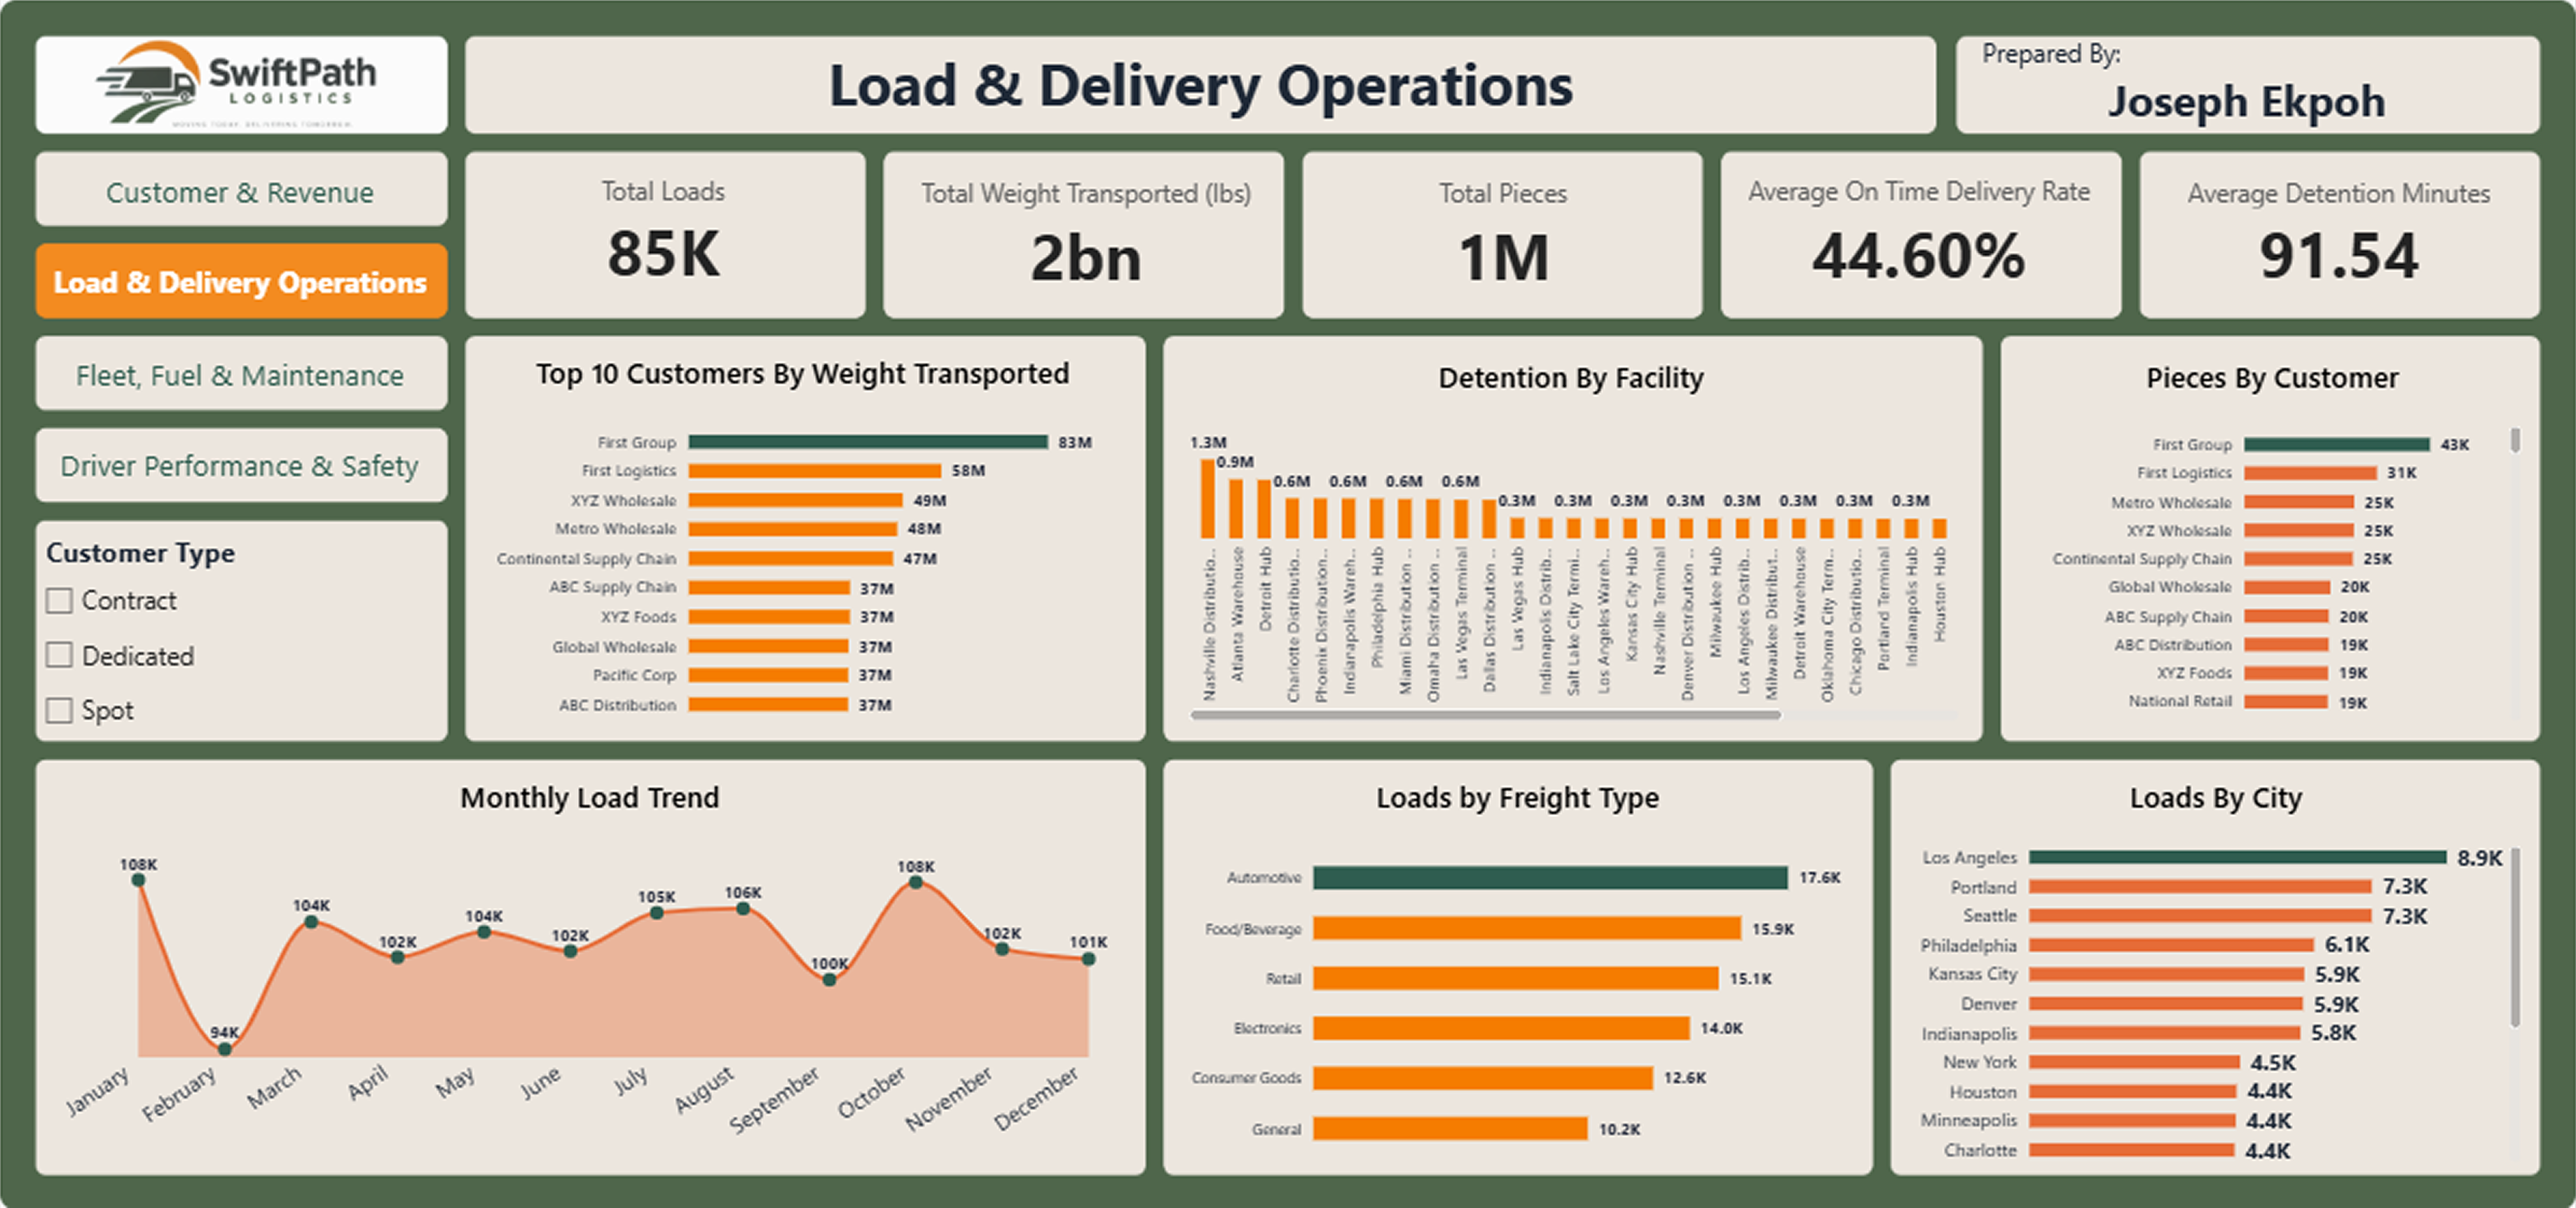

What the dashboard file says about the page in this screenshot:
{"tool":"powerbi","page":{"name":"Load & Delivery Operations","canvas":[1920,1080],"ordinal":2},"visuals":[{"type":"clusteredBarChart","title":"Top 10 Customers By Weight Transported","fields":{"Category":["customers.customer_name"],"Y":["loads.Total Weight Transported (lbs)"]},"box":[345.2,331.6,508.8,306.6],"z":0},{"type":"clusteredBarChart","title":"Loads by Freight Type","fields":{"Category":["customers.primary_freight_type"],"Y":["loads.Total Loads"]},"box":[867.6,647.3,529.2,318],"z":1000},{"type":"columnChart","title":"Detention By Facility","fields":{"Category":["facilities.facility_name"],"Y":["delivery_events.Total Detention Minutes"]},"box":[867.6,333.9,608.7,302.1],"z":2000},{"type":"clusteredBarChart","title":"Loads By City","fields":{"Category":["routes.destination_city"],"Y":["loads.Total Loads"]},"box":[1408.2,647.3,486.1,318],"z":3000},{"type":"cardVisual","fields":{"Data":["loads.Total Loads"]},"box":[345.2,197.6,300,120.4],"z":4000},{"type":"cardVisual","fields":{"Data":["loads.Total Weight (lbs)"]},"box":[658.7,197.6,300,125],"z":5000},{"type":"cardVisual","fields":{"Data":["loads.Total Pieces"]},"box":[970,197,300,125],"z":6000},{"type":"cardVisual","fields":{"Data":["driver_monthly_metrics.Average On Time Delivery Rate"]},"box":[1281,197.6,299,123],"z":7000},{"type":"cardVisual","fields":{"Data":["delivery_events.Average Detention Minutes"]},"box":[1594,194,299.8,129],"z":8000},{"type":"clusteredBarChart","title":"Pieces By Customer","fields":{"Category":["customers.customer_name"],"Y":["loads.Total Pieces"]},"box":[1492.2,333.9,402,302.1],"z":9000},{"type":"slicer","title":"Customer Type","fields":{"Values":["loads.booking_type"]},"box":[27.3,481.5,304.4,154.4],"z":10000},{"type":"actionButton","box":[27,197.6,305,57],"z":11000},{"type":"actionButton","box":[27.3,265.7,305,57],"z":12000},{"type":"actionButton","box":[27.3,333.9,305,57],"z":13000},{"type":"actionButton","box":[27.3,402,304.4,56.8],"z":14000},{"type":"stackedAreaChart","title":"Monthly Load Trend","fields":{"Category":["loads.load_date.Variation.Date Hierarchy.Month"],"Y":["Sum(loads.pieces)"]},"box":[27.3,647.3,826.8,318],"z":15000},{"type":"textbox","box":[345,115,1101,65],"z":16000},{"type":"textbox","box":[1455.9,111.3,436.1,86.3],"z":17000}]}

Visuals, with their boxes on the page's 1920x1080 design canvas (x1, y1, x2, y2). These are canvas units, not pixel positions in the 2576x1208 screenshot, which may show the page scaled, cropped or inside an application window:
"Top 10 Customers By Weight Transported" clusteredBarChart: [left=345, top=332, right=854, bottom=638]
"Loads by Freight Type" clusteredBarChart: [left=868, top=647, right=1397, bottom=965]
"Detention By Facility" columnChart: [left=868, top=334, right=1476, bottom=636]
"Loads By City" clusteredBarChart: [left=1408, top=647, right=1894, bottom=965]
cardVisual - loads.Total Loads: [left=345, top=198, right=645, bottom=318]
cardVisual - loads.Total Weight (lbs): [left=659, top=198, right=959, bottom=323]
cardVisual - loads.Total Pieces: [left=970, top=197, right=1270, bottom=322]
cardVisual - driver_monthly_metrics.Average On Time Delivery Rate: [left=1281, top=198, right=1580, bottom=321]
cardVisual - delivery_events.Average Detention Minutes: [left=1594, top=194, right=1894, bottom=323]
"Pieces By Customer" clusteredBarChart: [left=1492, top=334, right=1894, bottom=636]
"Customer Type" slicer: [left=27, top=482, right=332, bottom=636]
actionButton: [left=27, top=198, right=332, bottom=255]
actionButton: [left=27, top=266, right=332, bottom=323]
actionButton: [left=27, top=334, right=332, bottom=391]
actionButton: [left=27, top=402, right=332, bottom=459]
"Monthly Load Trend" stackedAreaChart: [left=27, top=647, right=854, bottom=965]
textbox: [left=345, top=115, right=1446, bottom=180]
textbox: [left=1456, top=111, right=1892, bottom=198]
